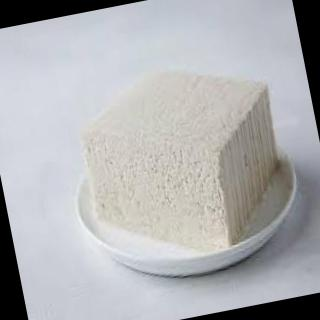Tahu: (55, 39, 315, 295)
